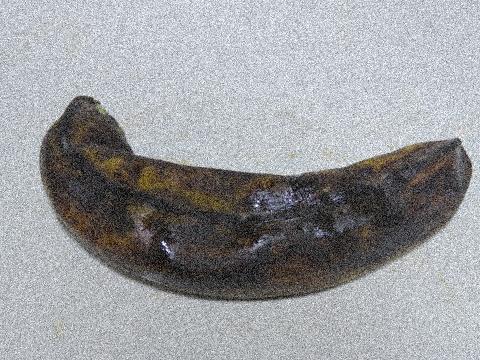rotten: (31, 76, 479, 318)
